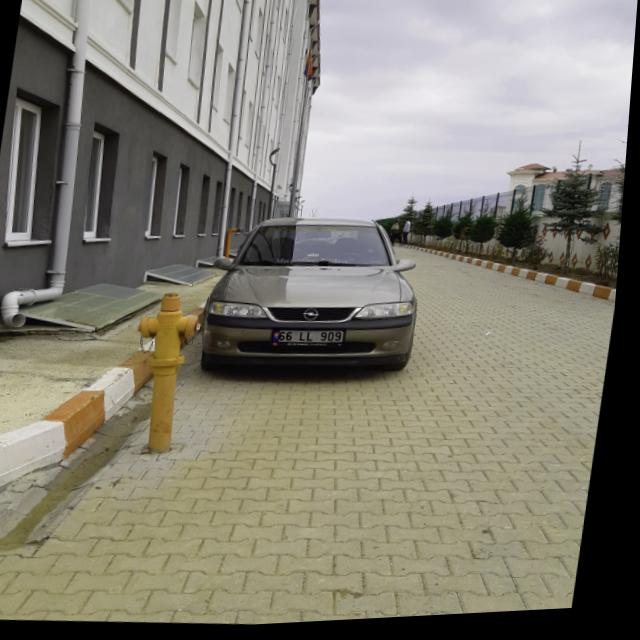license_plate: (276, 328, 351, 350)
